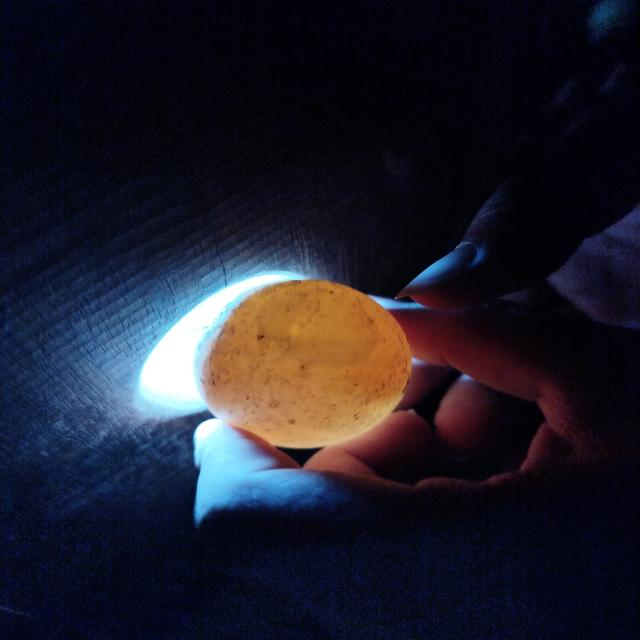Camara de Ar: (256, 284, 382, 367)
Rachadura: (271, 295, 321, 351)
